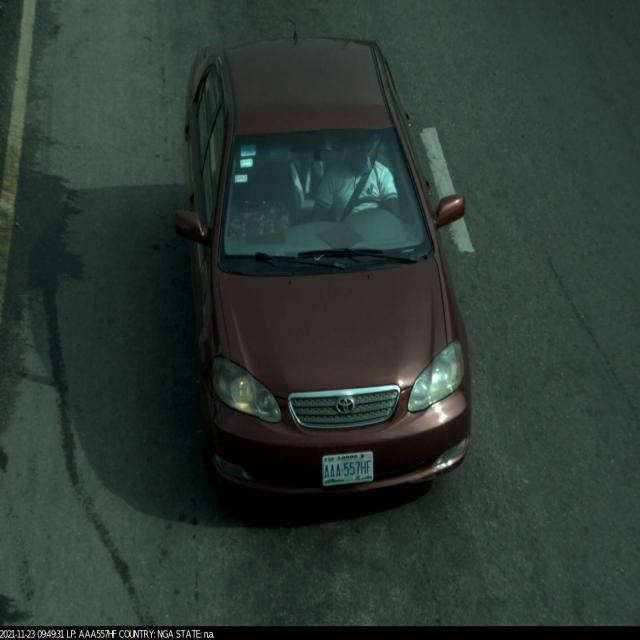windshield: (211, 126, 439, 270)
